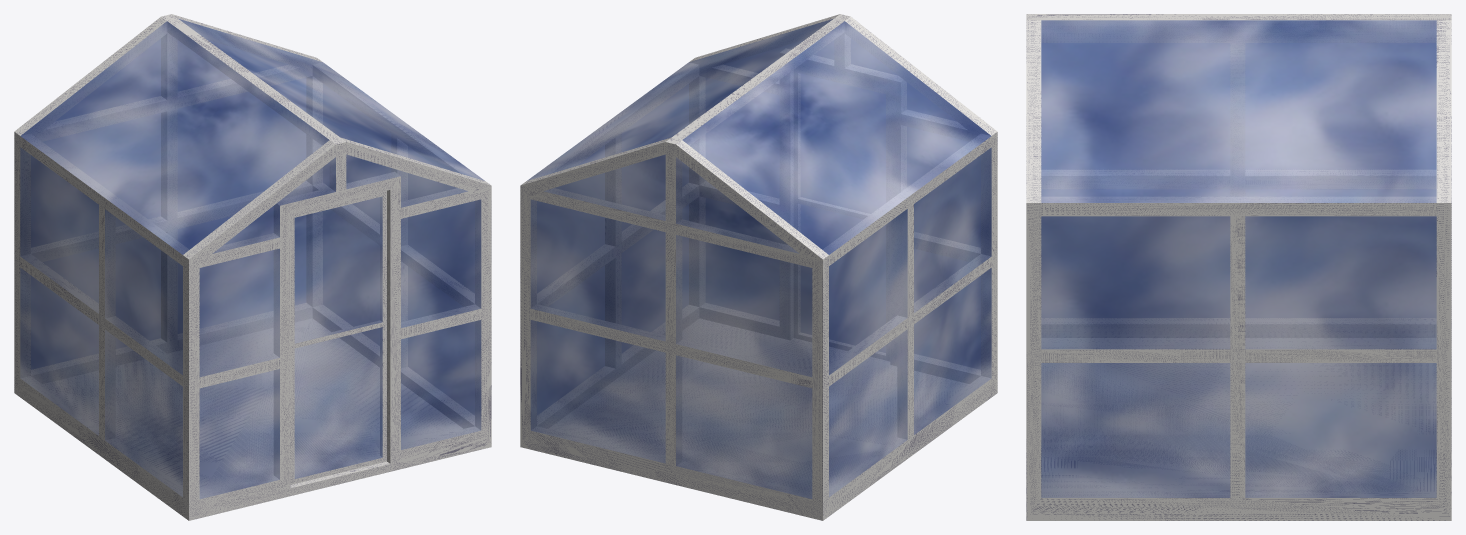
3 views of the same model, side by side, from view 1: azimuth 30°, elevation 25°; view 2: azimuth 150°, elevation 25°; view 3: azimuth 270°, elevation 25° (orthographic). The views are drawn at different scales.
Parts seen in each view (by area): view 1: SketchUp (×27); view 2: SketchUp (×27); view 3: SketchUp (×10).
Part boxes in pixels (bbox=[...]): SketchUp (×27): bbox=[14, 14, 491, 520]; SketchUp (×27): bbox=[520, 14, 997, 520]; SketchUp (×10): bbox=[1026, 14, 1451, 520].
Bounding box in the file's own units: 78.74 × 78.74 × 84.65.
3 materials, 1 textured.
